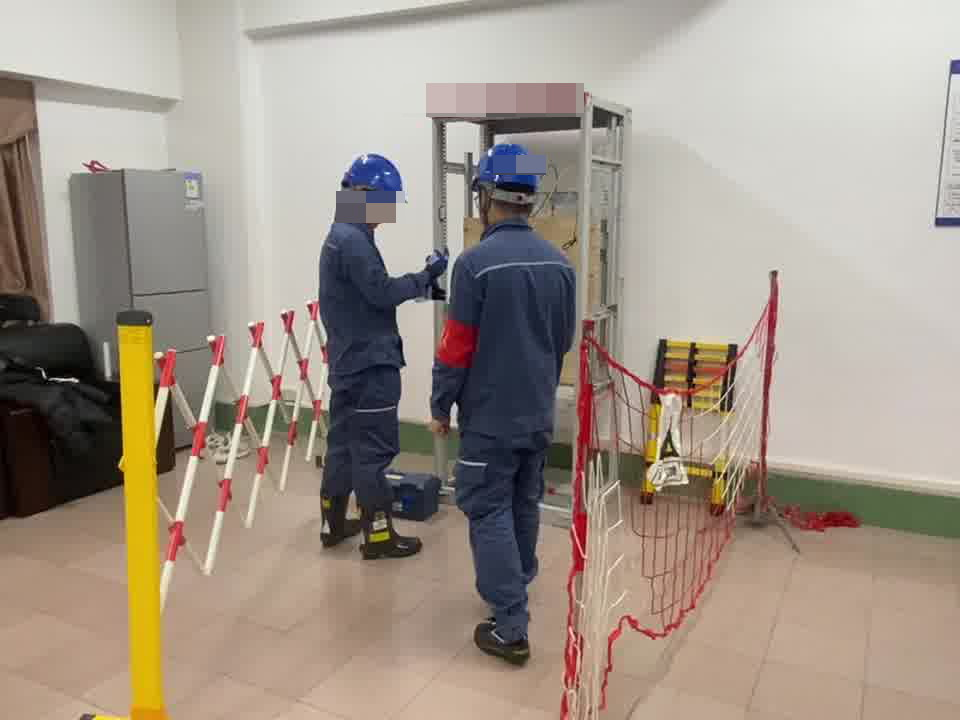badge: (436, 316, 480, 369)
downsuit: (454, 455, 550, 637), (321, 371, 405, 509)
glove: (424, 251, 449, 278)
halt: (472, 143, 544, 220), (339, 152, 406, 221)
hand: (427, 415, 452, 437)
inear: (475, 182, 494, 220), (350, 187, 374, 217)
person: (428, 140, 580, 665), (311, 150, 434, 538)
shoe: (357, 505, 419, 557), (320, 495, 360, 546)
upsuit: (431, 223, 579, 441), (316, 218, 429, 362)
